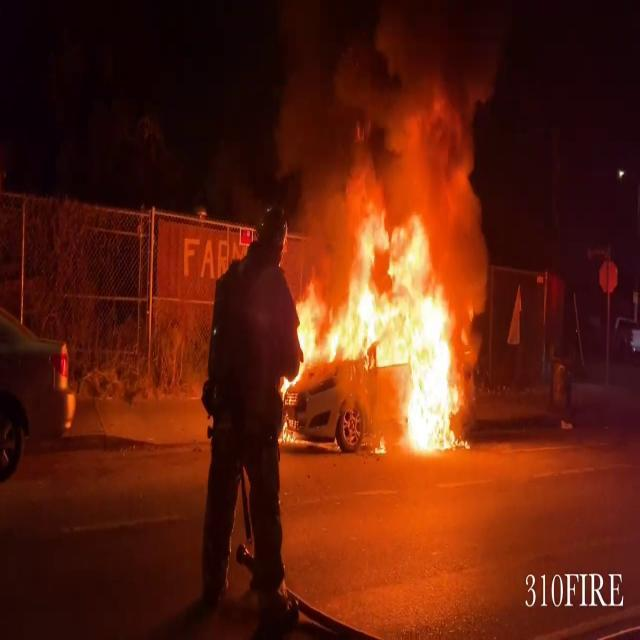Fire: (280, 187, 476, 454)
Smoke: (259, 1, 506, 234)
